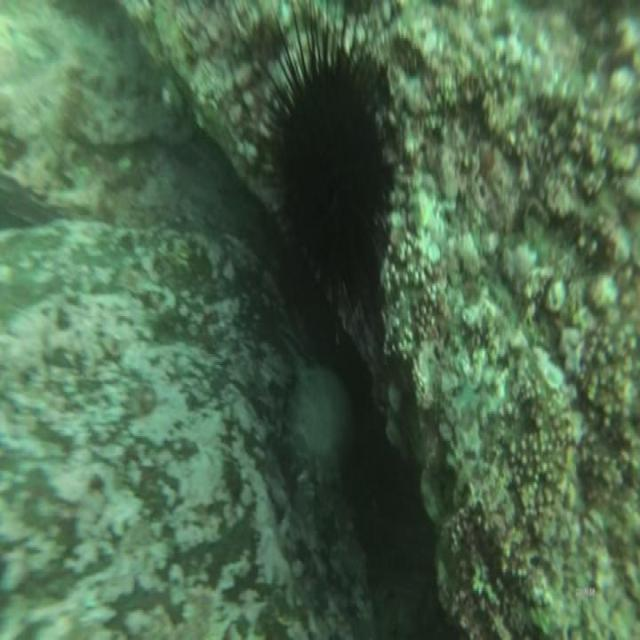echinus: (264, 30, 391, 343)
